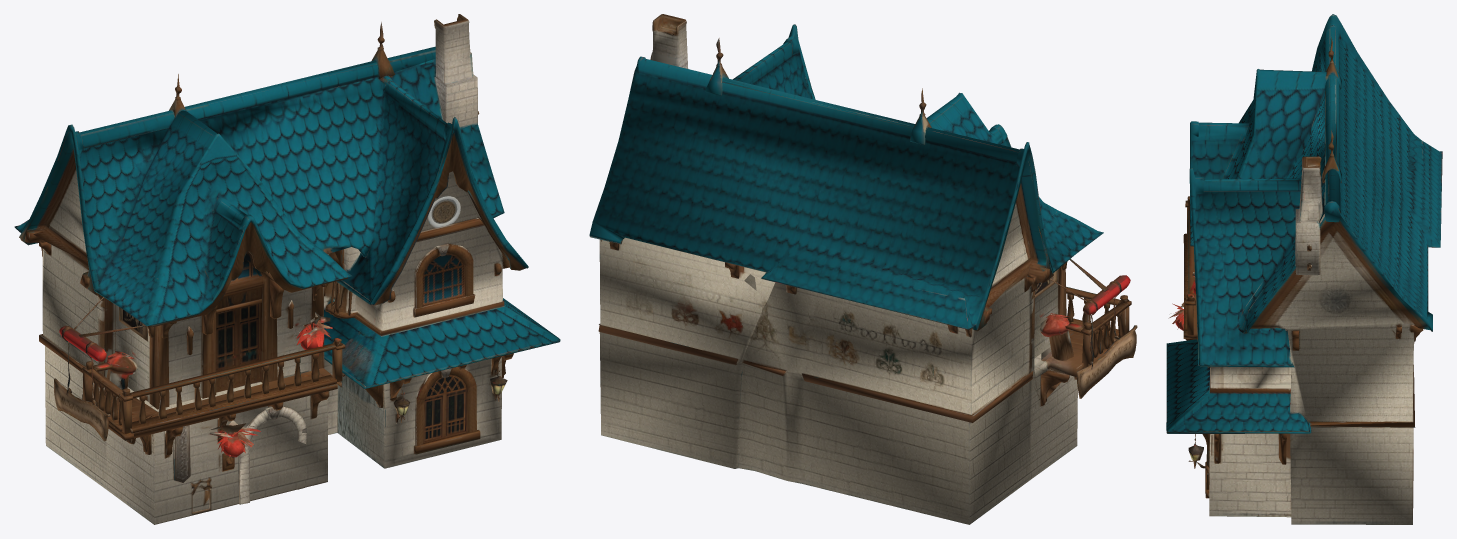
The model's file is tavern_eldarwen.glb.
The picture shows the model from 3 angles, left to right: view 1: azimuth 30°, elevation 25°; view 2: azimuth 150°, elevation 25°; view 3: azimuth 270°, elevation 25°; orthographic projection. The views are drawn at different scales.
Bounding box in the file's own units: 0.9526 × 0.7949 × 0.5498.
1 material, 1 textured.
